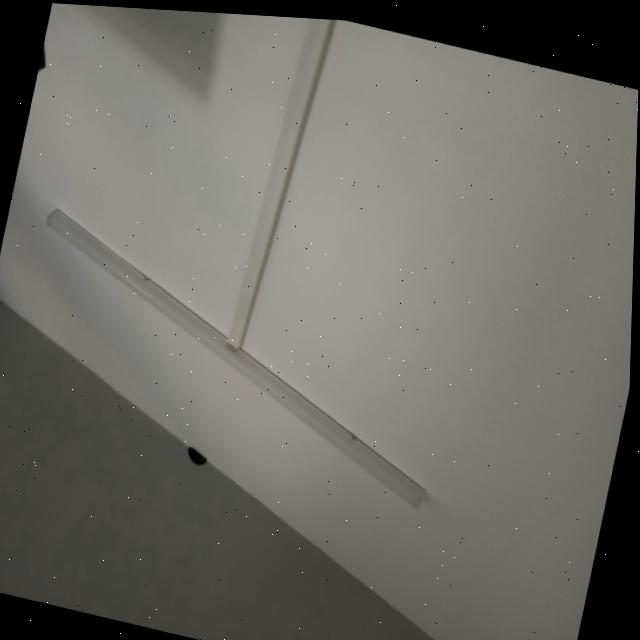light_off: (0, 203, 479, 525)
